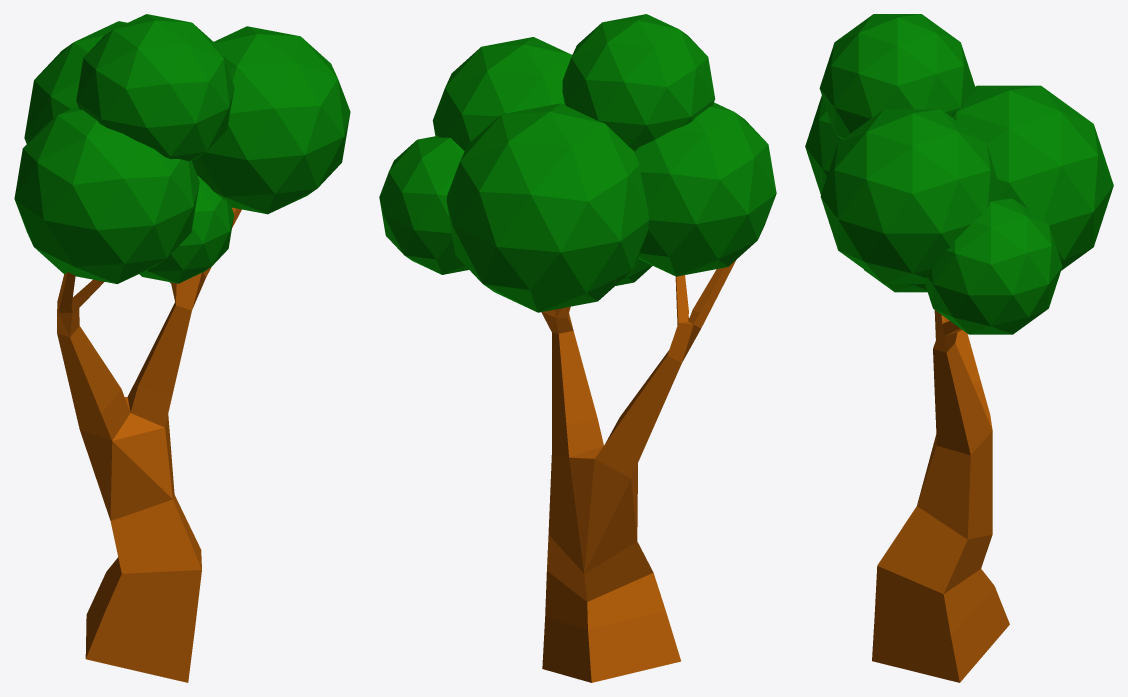
File: Tree.fbx
3 views of the same model, side by side, from view 1: azimuth 30°, elevation 25°; view 2: azimuth 150°, elevation 25°; view 3: azimuth 270°, elevation 25° (orthographic). The views are drawn at different scales.
Parts seen in each view (by area): view 1: Plane; view 2: Plane; view 3: Plane.
Boxes of the visible parts, x1,y1,x2,y2 form: Plane: (14, 14, 350, 682); Plane: (379, 14, 776, 682); Plane: (805, 14, 1113, 682).
Size of the model in its own units: 176 by 332 by 147.
